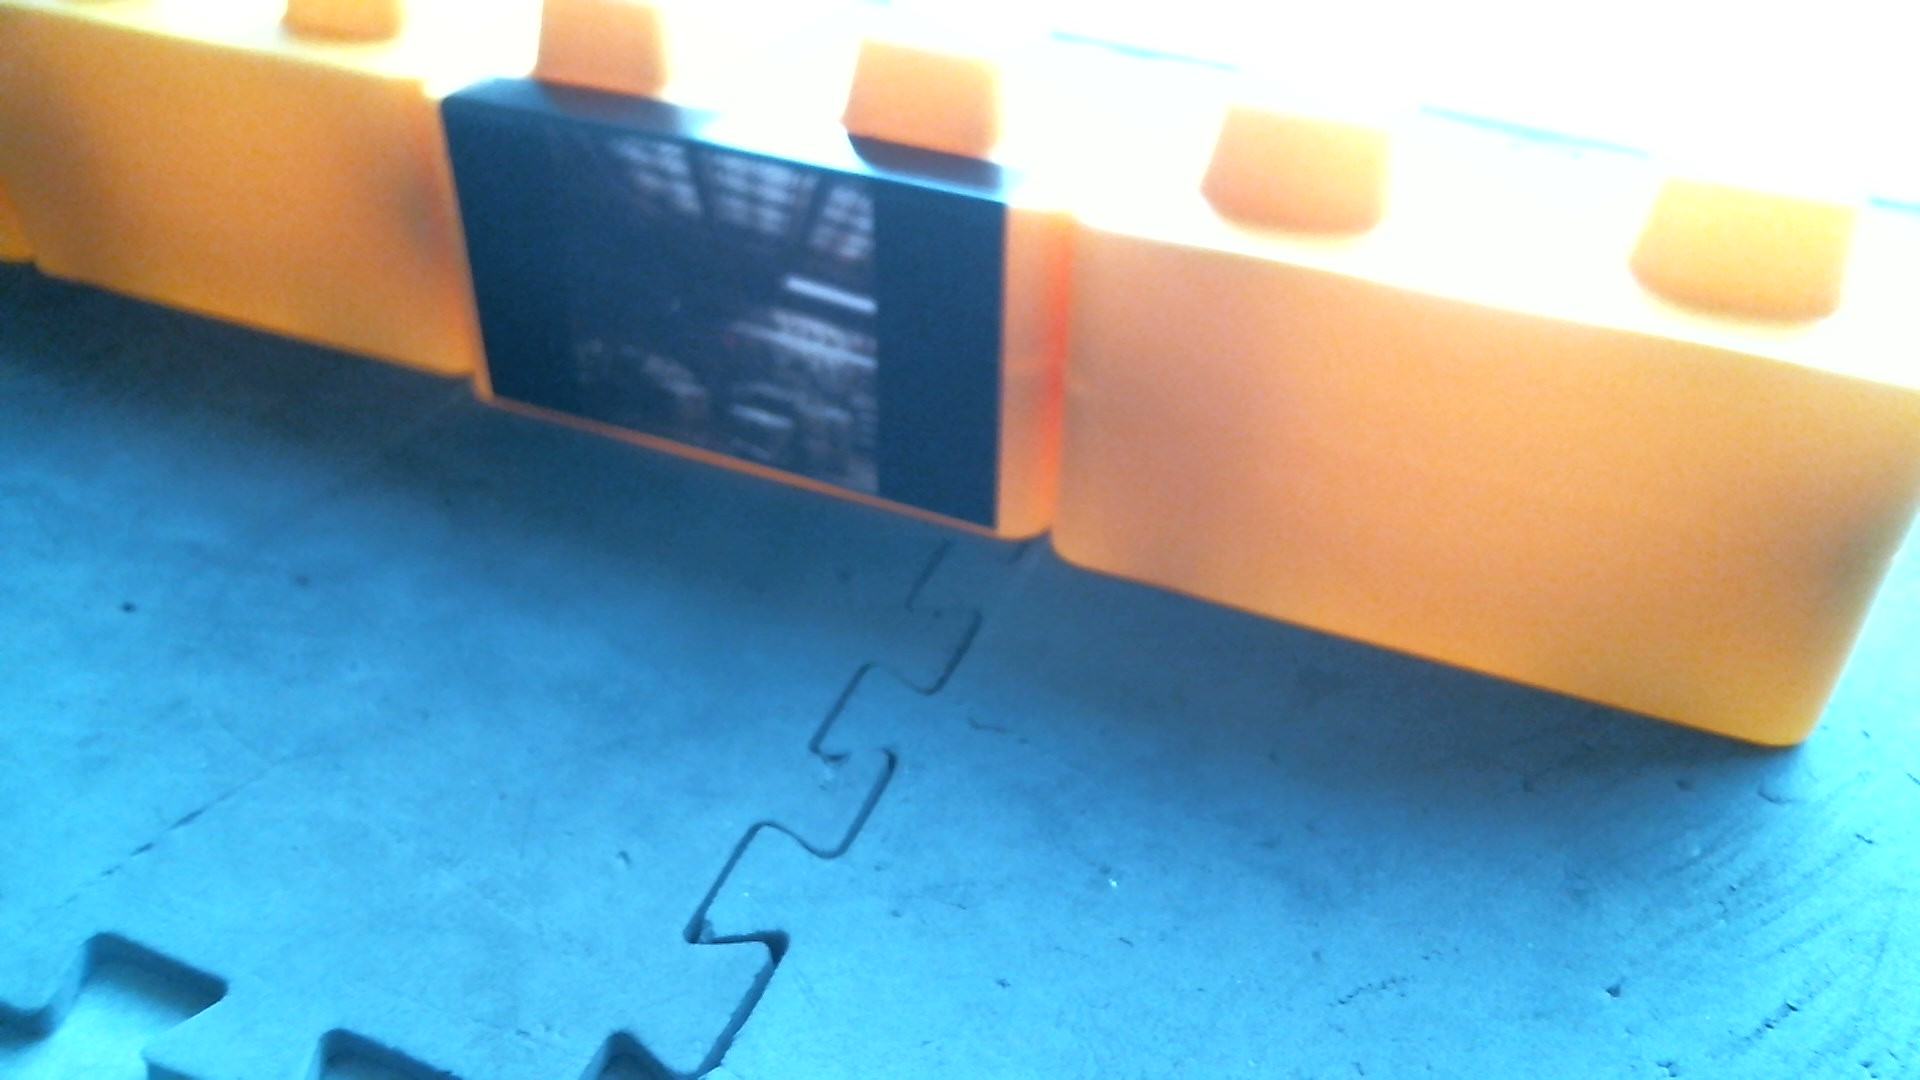center: (1, 1, 1917, 765)
